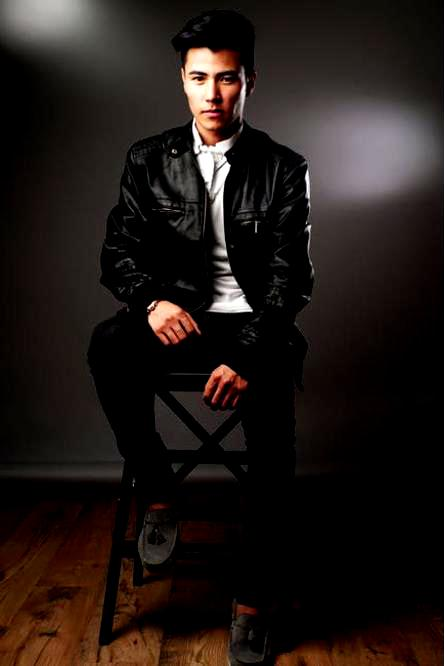face: (184, 49, 244, 129)
